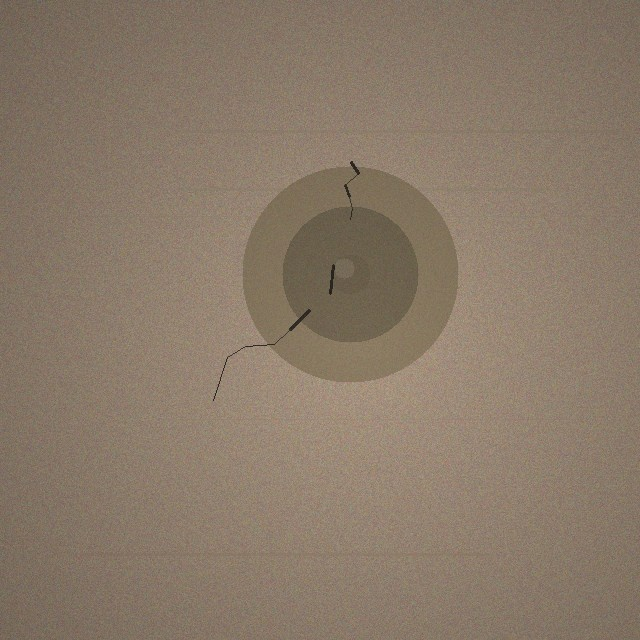crack: (242, 166, 458, 382)
